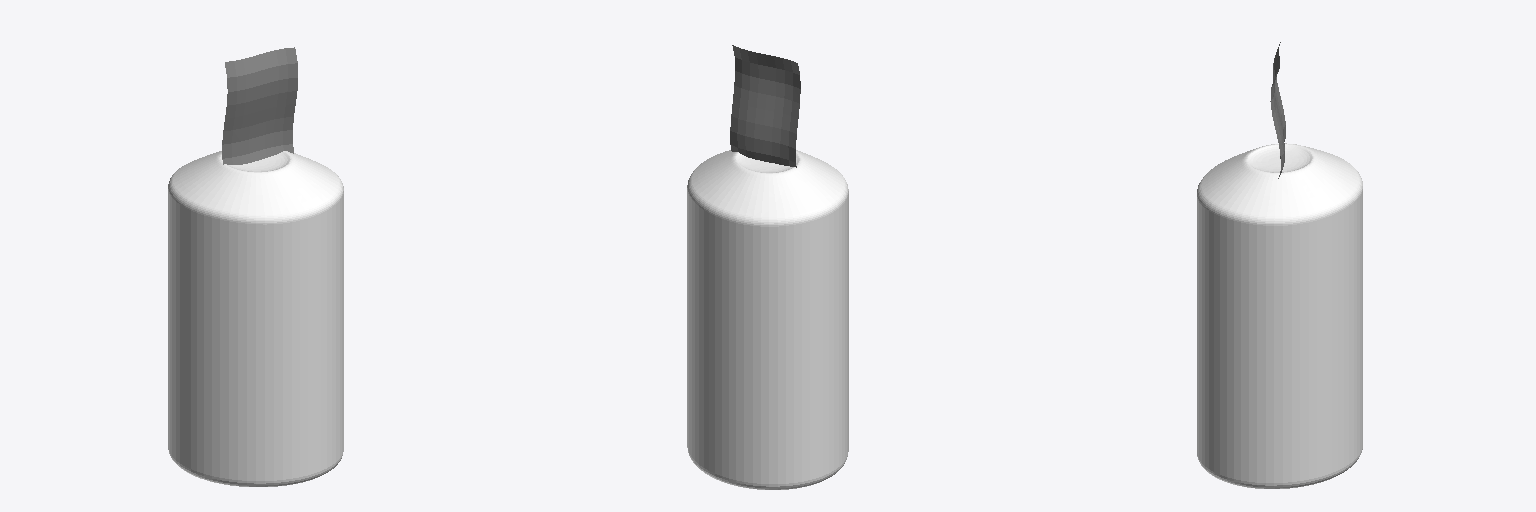
3 views of the same model, side by side, from view 1: azimuth 30°, elevation 25°; view 2: azimuth 150°, elevation 25°; view 3: azimuth 270°, elevation 25° (orthographic).
Parts seen in each view (by area): view 1: Line13175, Plane1063; view 2: Line13175, Plane1063; view 3: Line13175, Plane1063.
Boxes of the visible parts, box(x1,y1,x2,y2) form: Line13175: box(168, 151, 343, 486); Plane1063: box(222, 47, 297, 164); Line13175: box(687, 150, 848, 489); Plane1063: box(730, 45, 800, 167); Line13175: box(1197, 143, 1362, 488); Plane1063: box(1270, 42, 1285, 178).
Bounding box in the file's own units: 0.7134 × 1.86 × 0.7013.
2 materials, 1 textured.